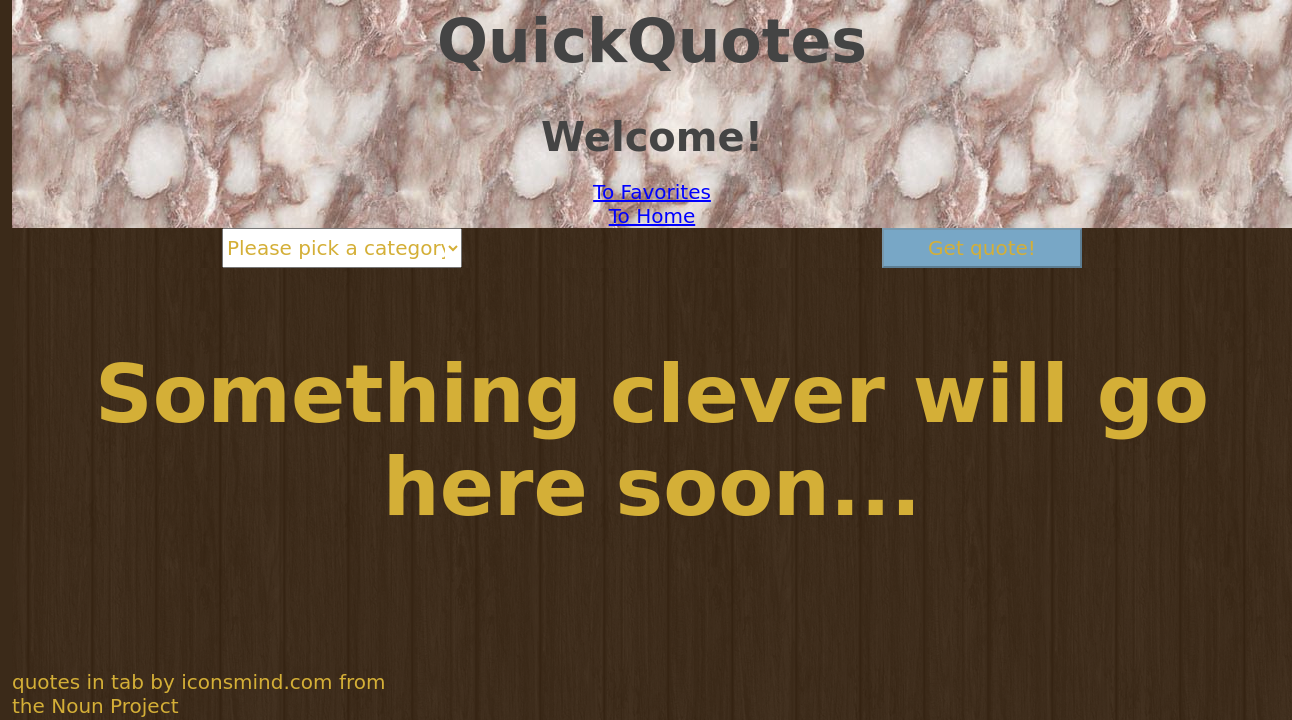
the main view › should be able to search for quotes in two categories
The image size is (1292, 720).
Select "Wisdom" in the dropdown at (342, 248), box [222, 228, 462, 268]
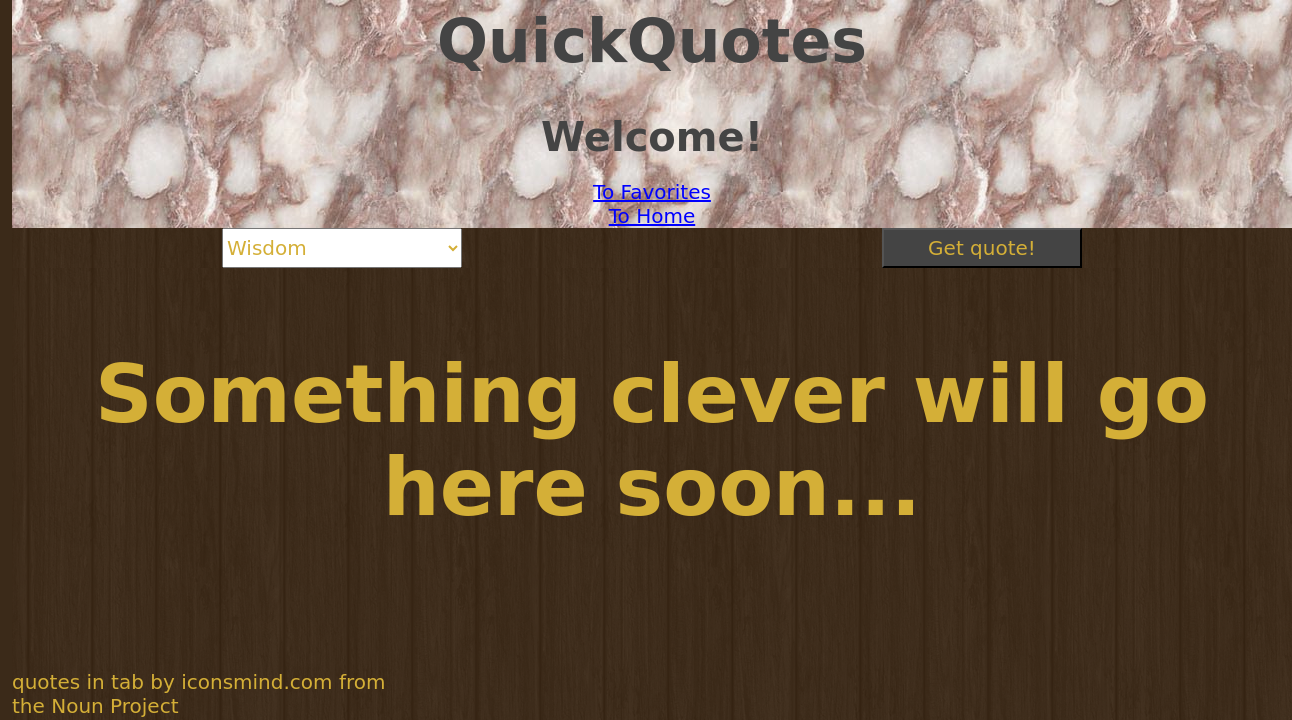
Click the button "Get quote!" at (982, 248), box [882, 228, 1082, 268]
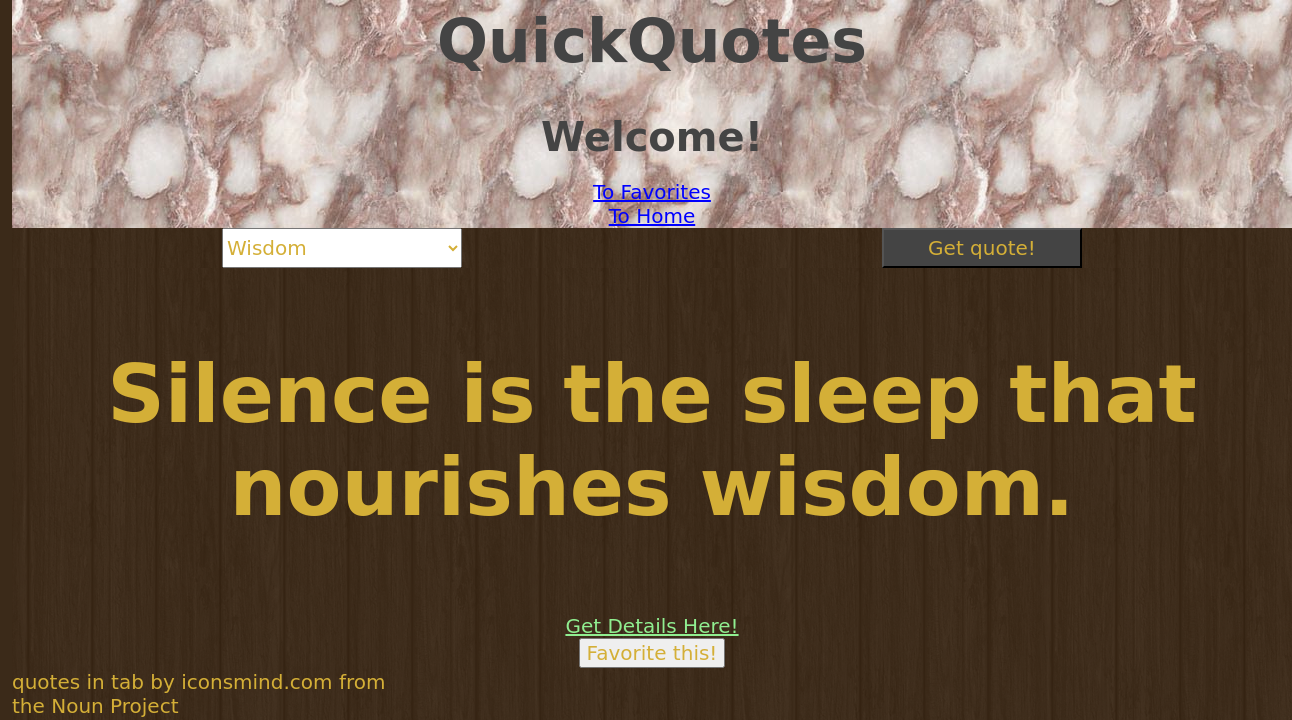
Now the heading "Something clever will go here soon..." no longer shows "Something clever will go here soon..."
Select "Business" in the dropdown at (342, 248), box [222, 228, 462, 268]
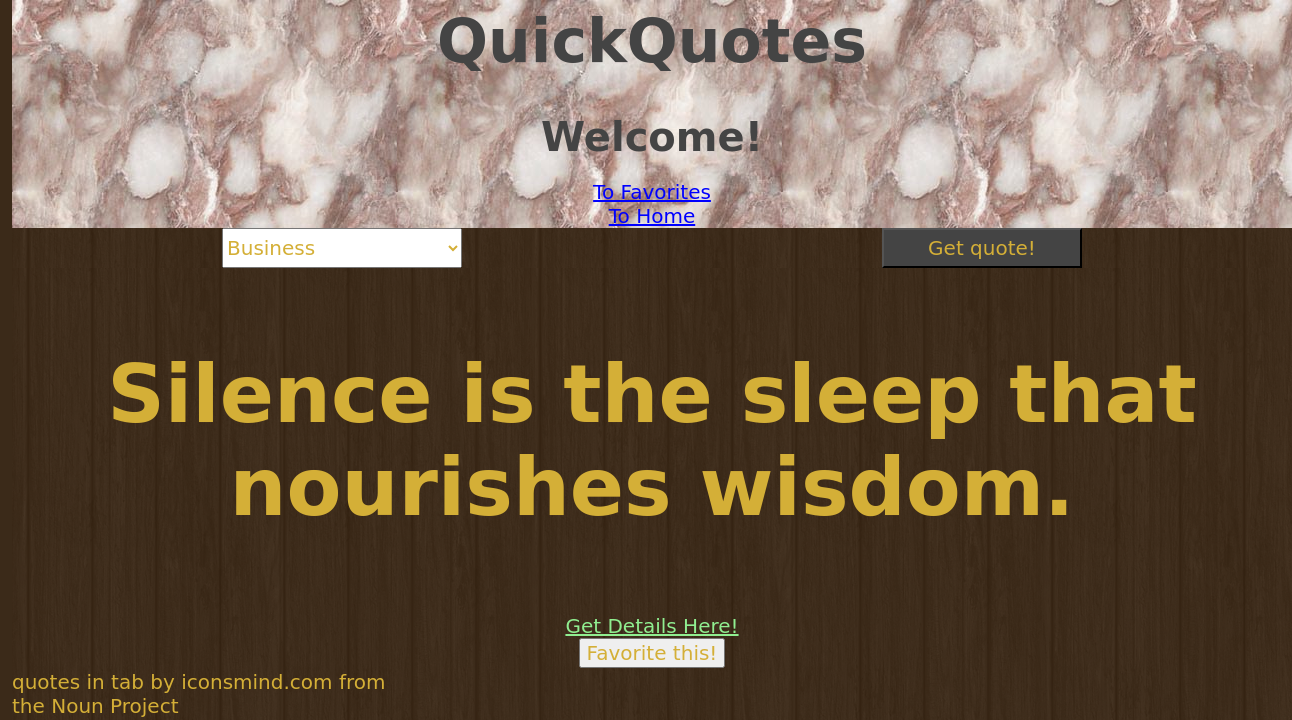
Click the button "Get quote!" at (982, 248), box [882, 228, 1082, 268]
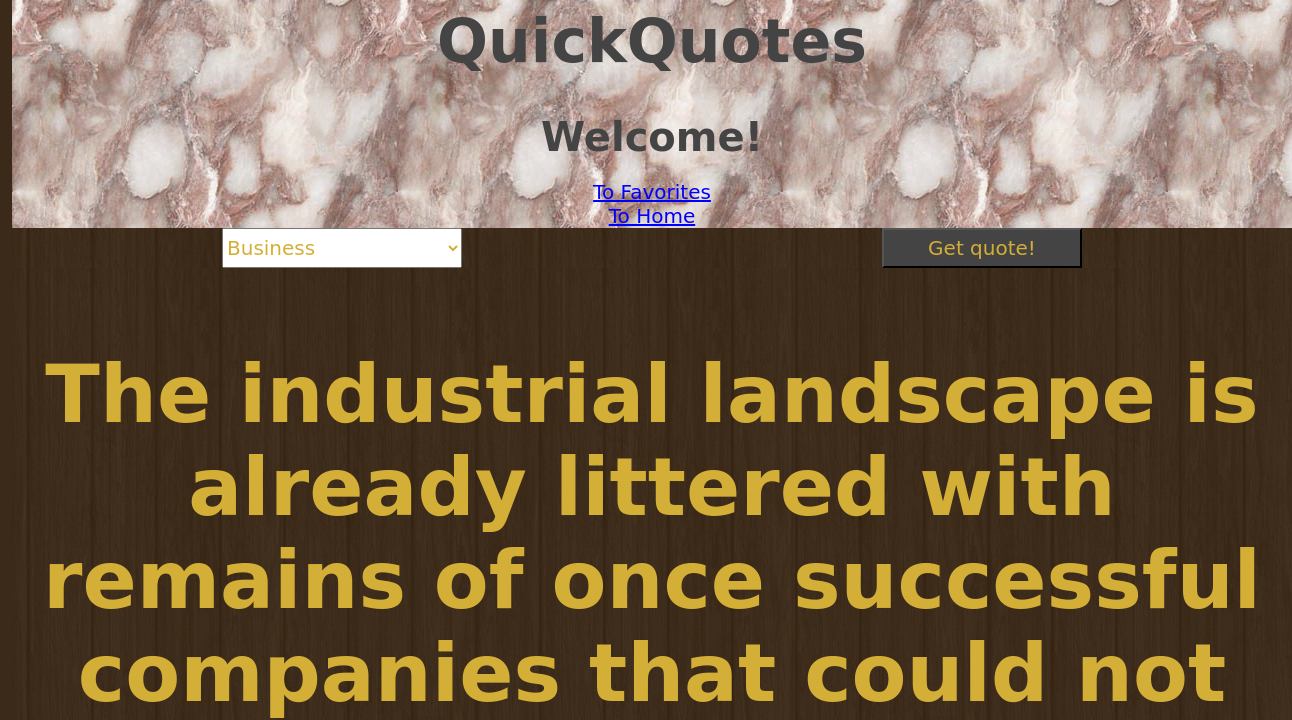
Now the heading "Silence is the sleep that nourishes wisdom." no longer shows "Silence is the sleep that nourishes wisdom."
Now the heading "The industrial landscape is already littered with remains" is shown, box [36, 348, 1267, 719]
